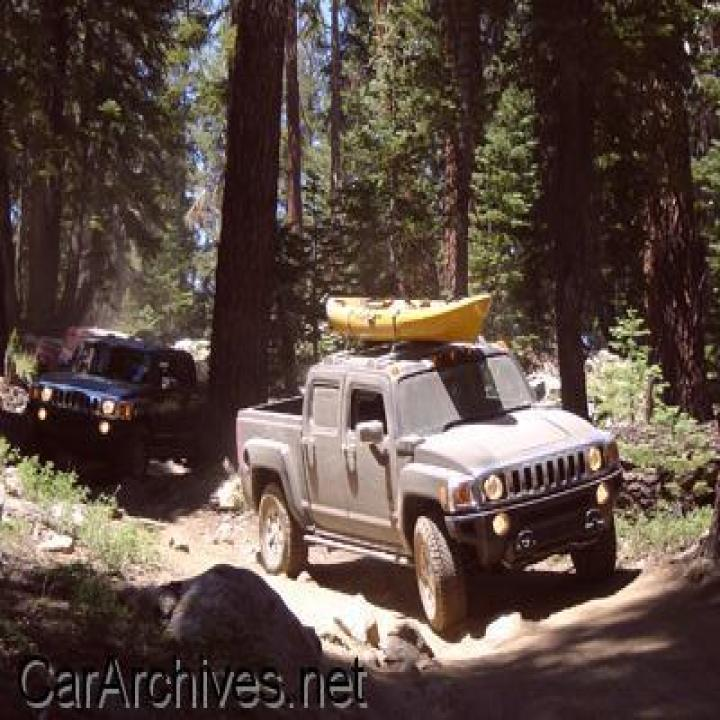car: (234, 331, 623, 634), (27, 334, 207, 478)
